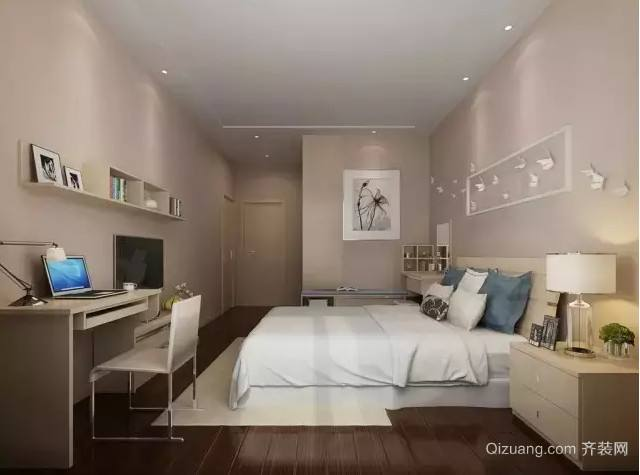床: (244, 300, 523, 411)
枕头: (416, 264, 533, 330), (2, 236, 66, 303)
灯: (543, 251, 615, 355), (498, 23, 515, 35), (155, 67, 170, 79), (456, 74, 471, 86), (365, 128, 380, 138), (259, 152, 273, 162)
